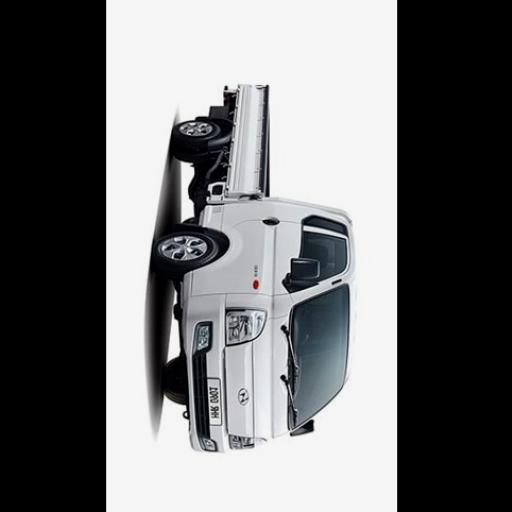truck: (154, 82, 354, 458)
